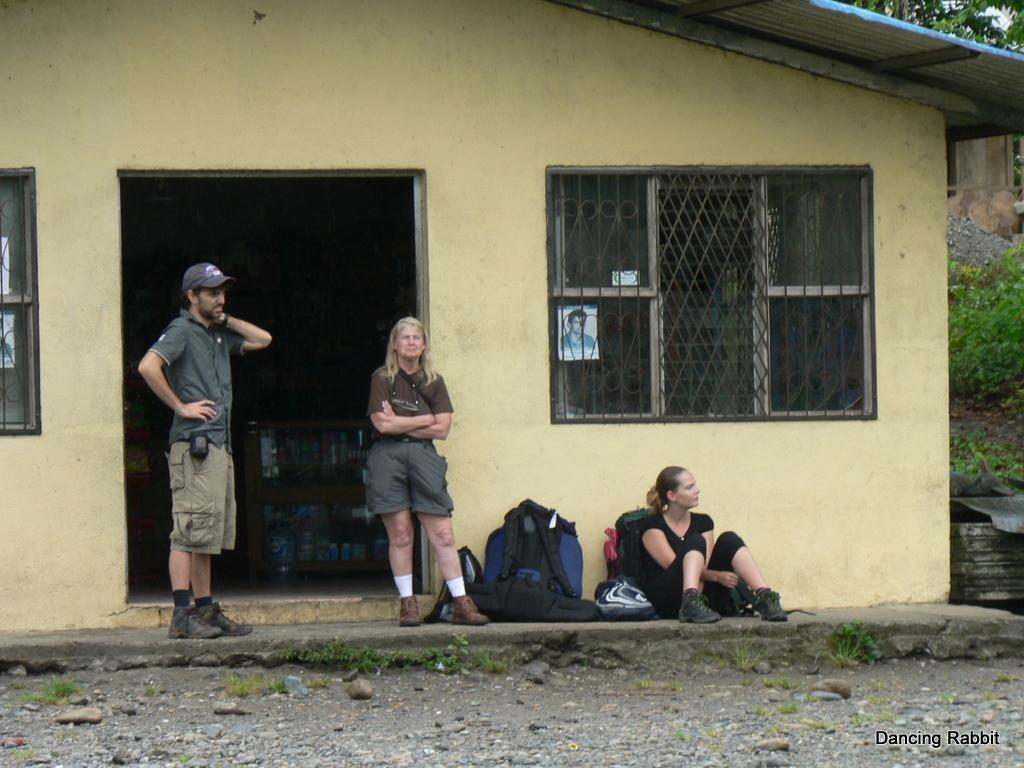Luggage-and-bags: (481, 494, 586, 598), (454, 551, 598, 624), (602, 500, 660, 601), (395, 364, 440, 420)
